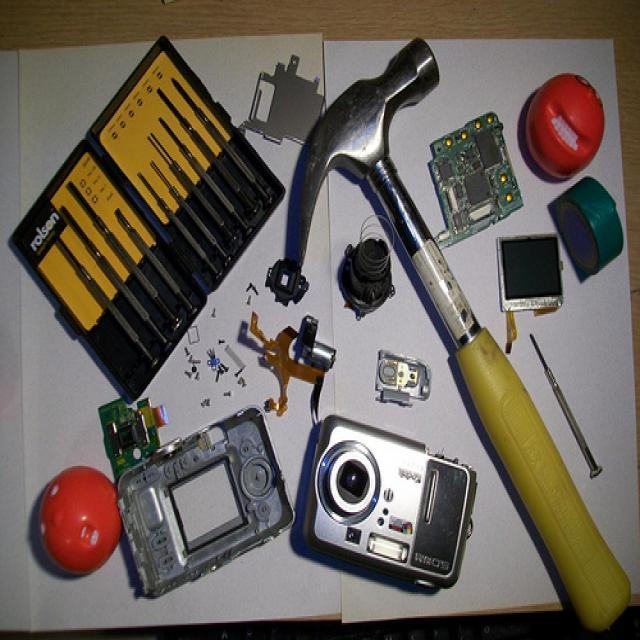hammer: (277, 30, 640, 640)
